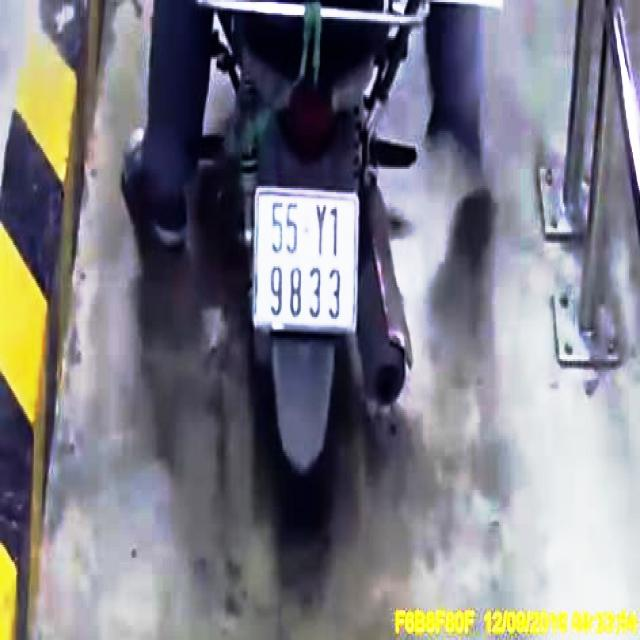license_plate: (253, 187, 361, 337)
